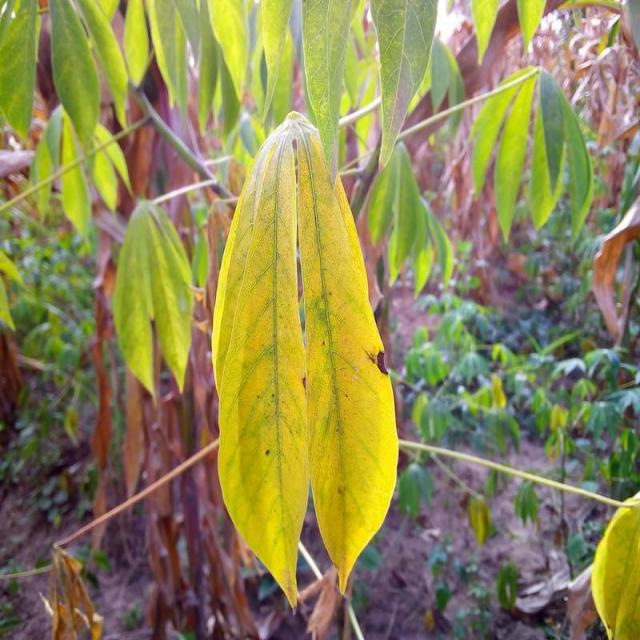cassava leaf: (210, 109, 399, 608)
